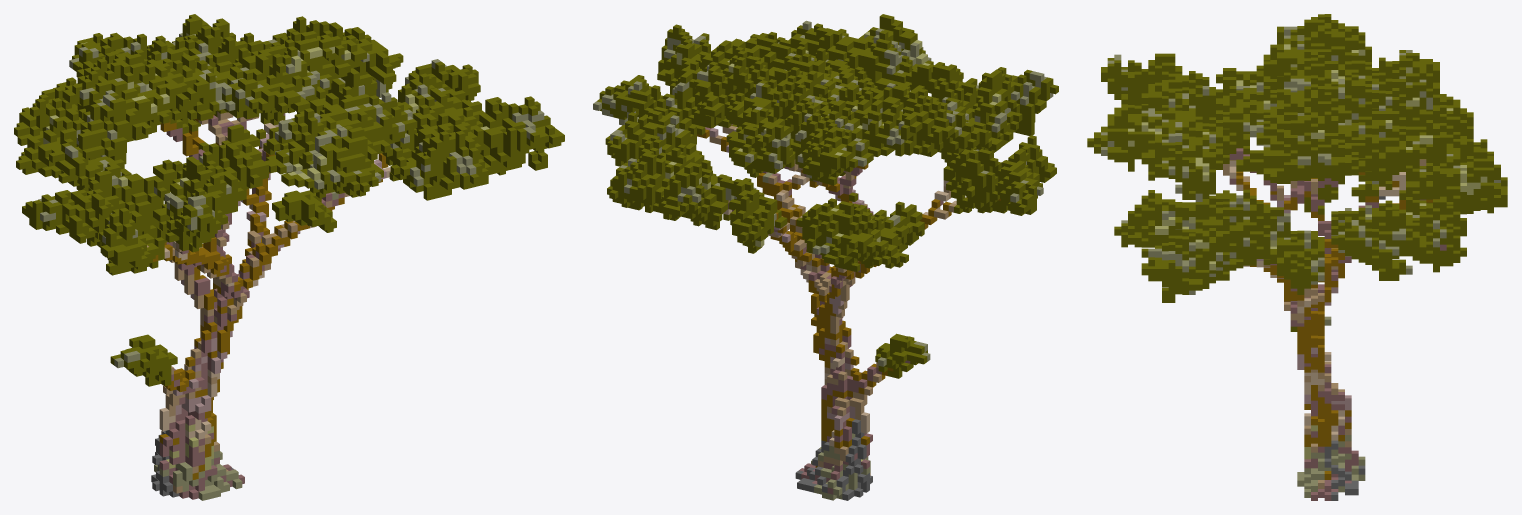
File: marula_tree_voxel.glb
3 views of the same model, side by side, from view 1: azimuth 30°, elevation 25°; view 2: azimuth 150°, elevation 25°; view 3: azimuth 270°, elevation 25° (orthographic). The views are drawn at different scales.
Parts seen in each view (by area): view 1: Geode; view 2: Geode; view 3: Geode.
Boxes of the visible parts, <box> form: Geode: <box>14,14,564,500</box>; Geode: <box>593,14,1058,500</box>; Geode: <box>1087,14,1507,500</box>.
Size of the model in its own units: 74 by 69 by 62.
